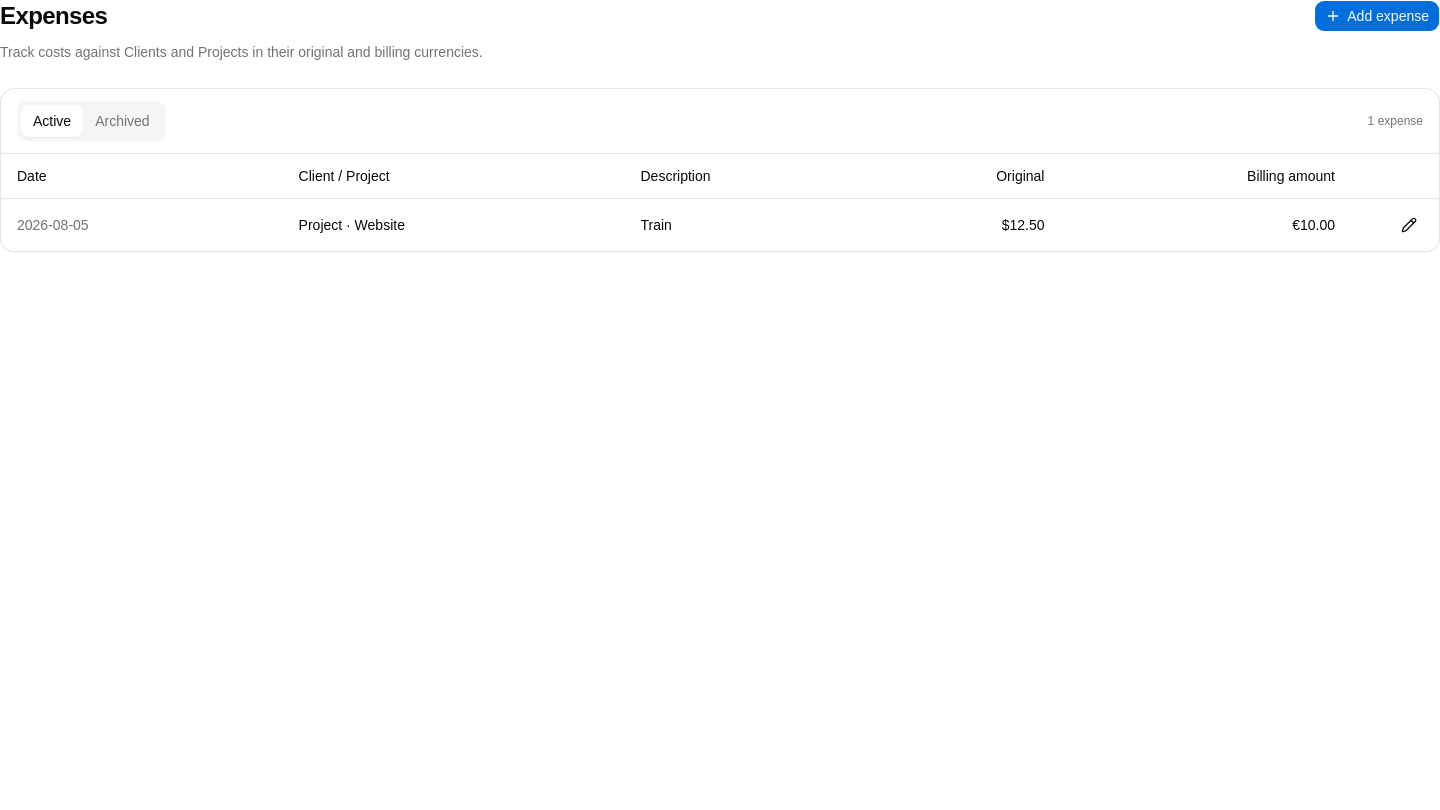
Test case: edits an active row through the real form and refreshes it
This screenshot has width=1440, height=810.
Expected: the text "Train" is shown, [640,216,672,232]
Click the button named "Edit Train": [1409, 224] box [1395,210,1423,238]
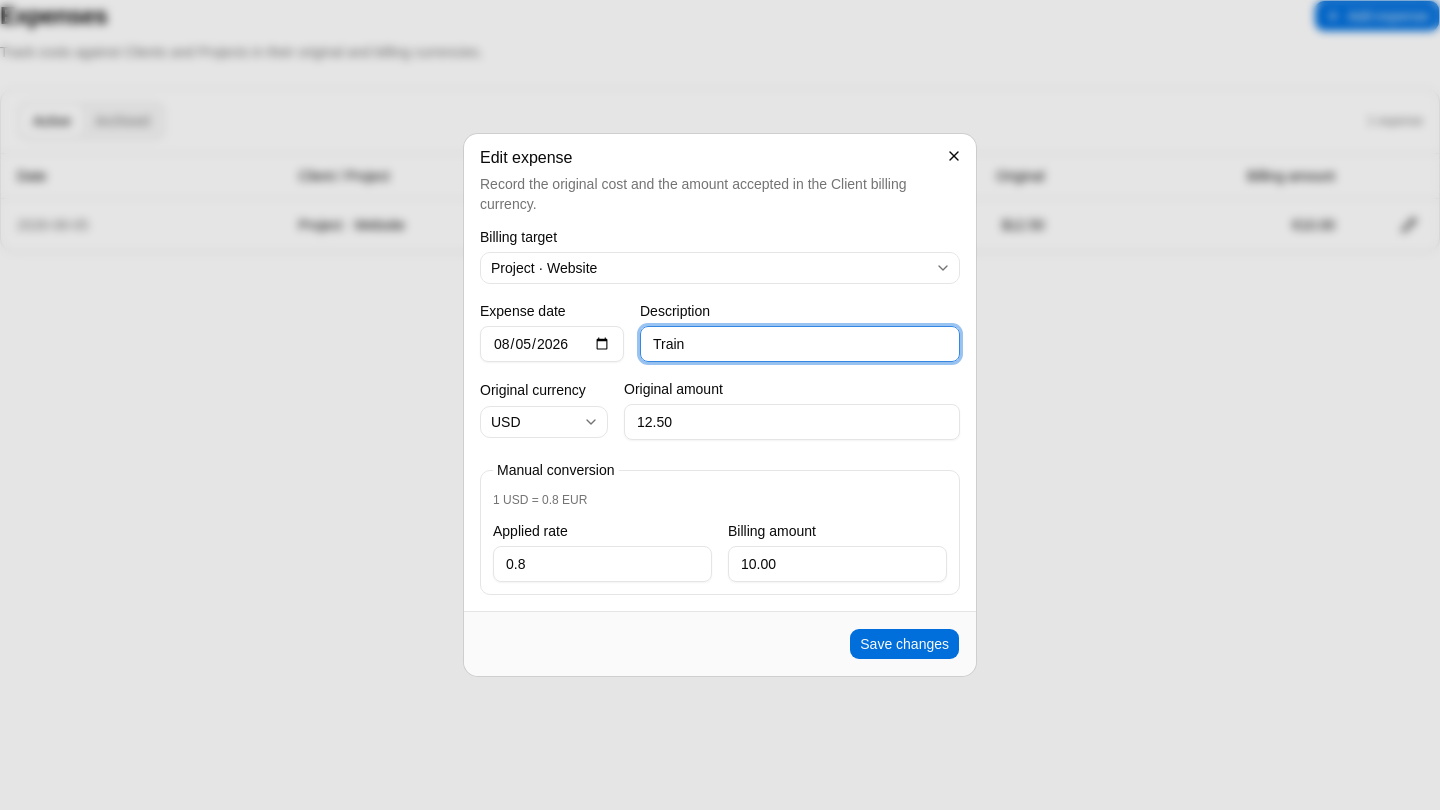
Replace the text in the field labelled "Description" with "Hotel": [800, 344] box [640,326,960,362]
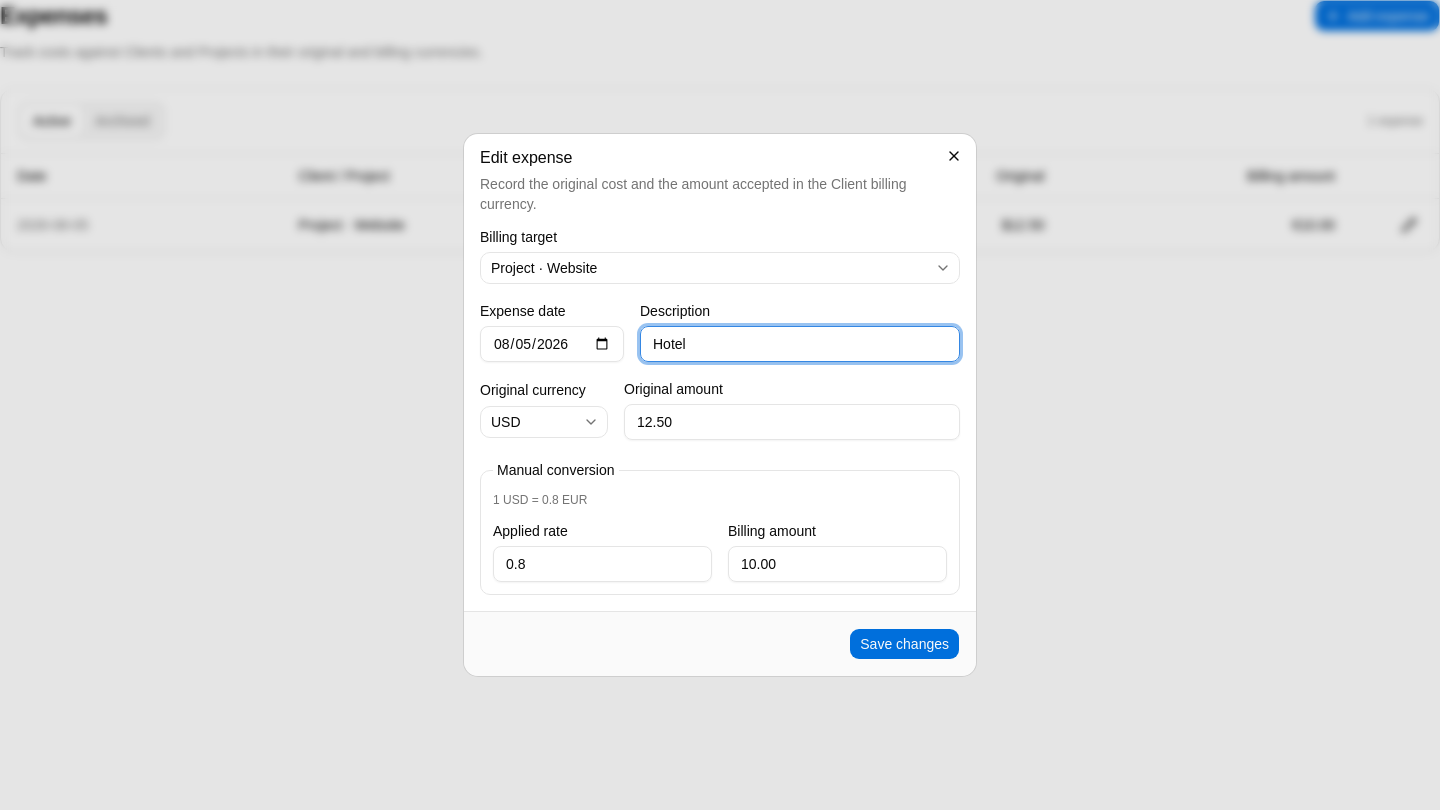
Click the button "Save changes": [905, 644] box [849,628,960,660]
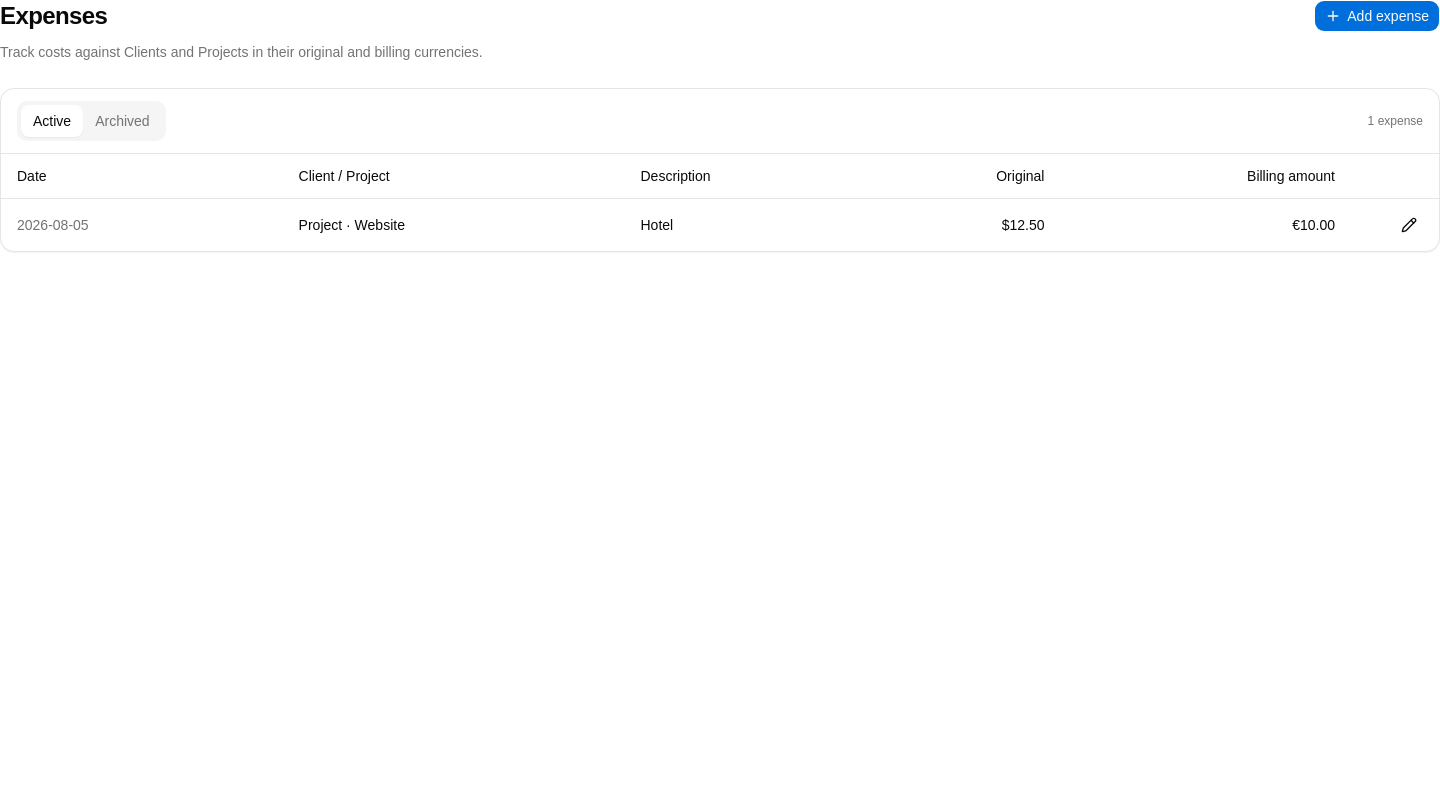
Expected: the text "Hotel" is shown, [640,216,673,232]
